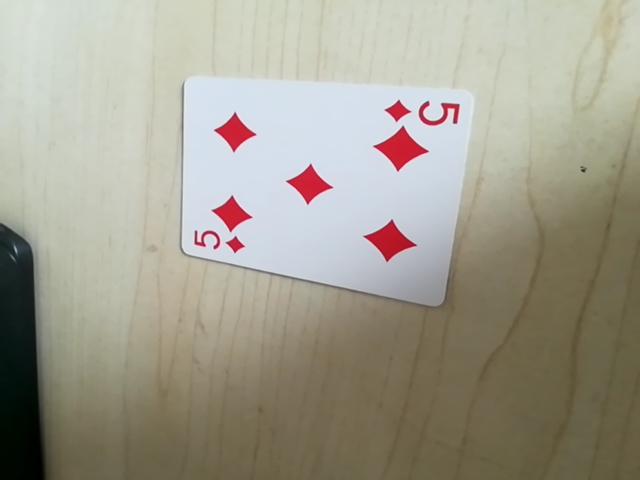fk 5: (381, 91, 463, 129), (190, 227, 249, 259)
